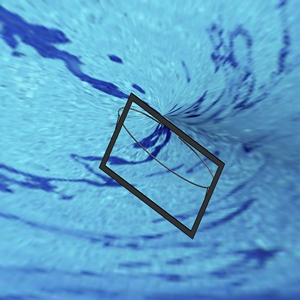circle: (99, 91, 225, 239)
